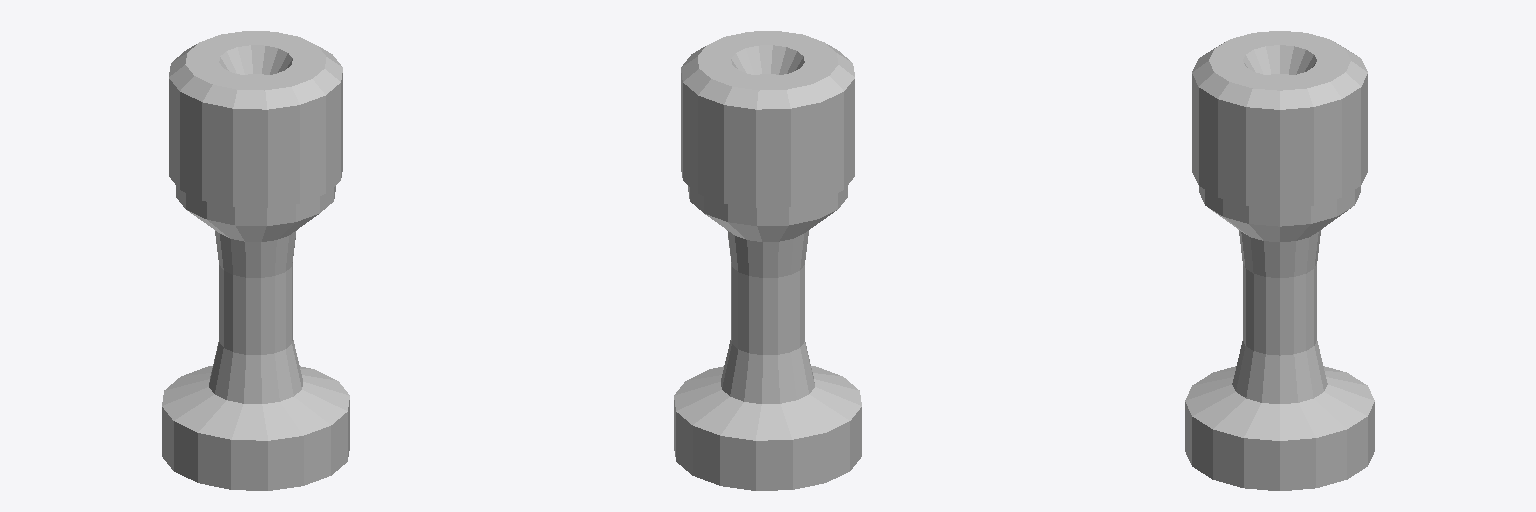
Rendered from hzb-test-scene-pawn.obj.
3 renders of one model, left to right at view 1: azimuth 30°, elevation 25°; view 2: azimuth 150°, elevation 25°; view 3: azimuth 270°, elevation 25°, orthographic.
Visible parts, largest first — view 1: Circle; view 2: Circle; view 3: Circle.
Part boxes in pixels (x1,y1,x2,y2): Circle: (162, 31, 349, 490); Circle: (674, 31, 861, 490); Circle: (1185, 31, 1374, 490).
Size of the model in its own units: 0.3003 by 0.6811 by 0.3003.